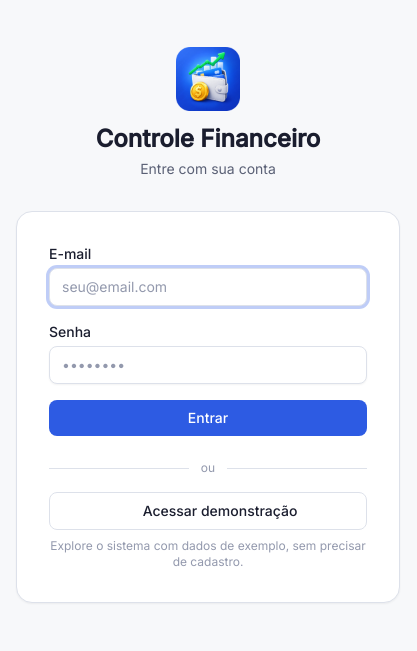
Scenario: Login › erro HTTP mostra a mensagem do backend
The width and height of the screenshot is (417, 651).
In the field labelled "E-mail": {"x": 208, "y": 287} [49, 268, 367, 306], type "ana@exemplo.com"
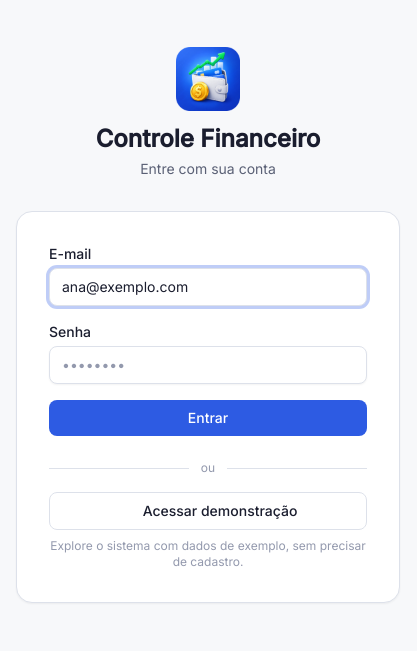
In the password field labelled "Senha": {"x": 208, "y": 365} [49, 346, 367, 384], type "segredo1"
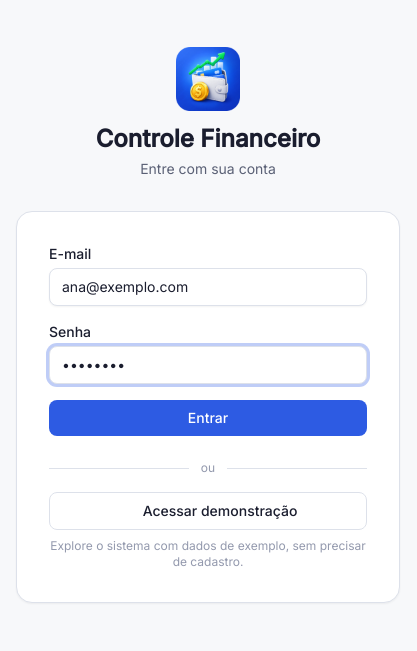
Click the button "Entrar": {"x": 208, "y": 418} [49, 400, 367, 436]
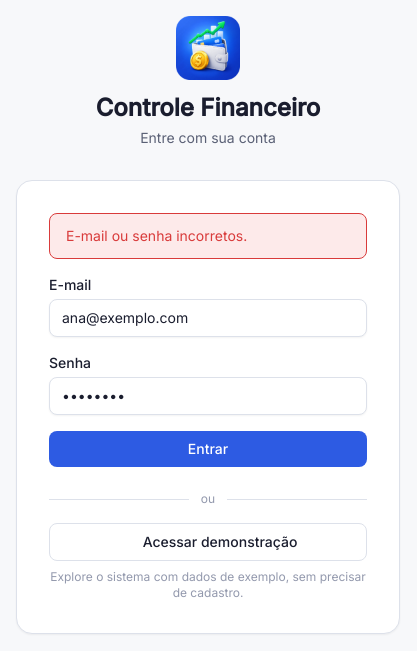
Expected: the text "E-mail ou senha incorretos." is shown, [49, 213, 367, 259]
